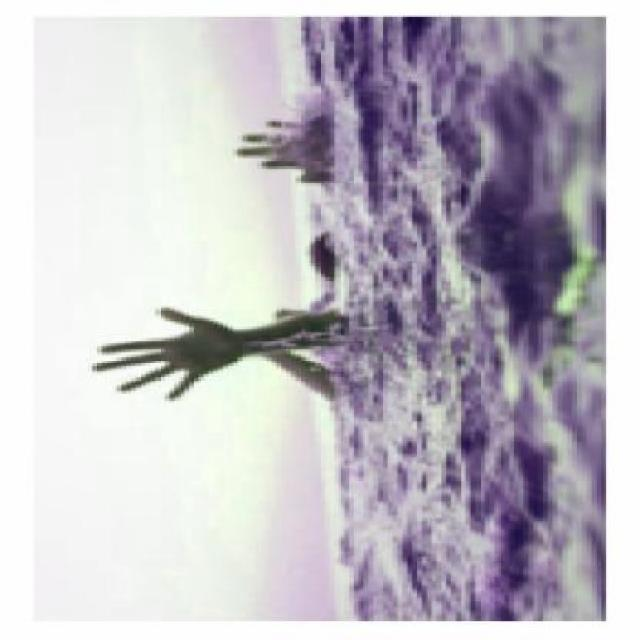drowning: (33, 19, 604, 626)
